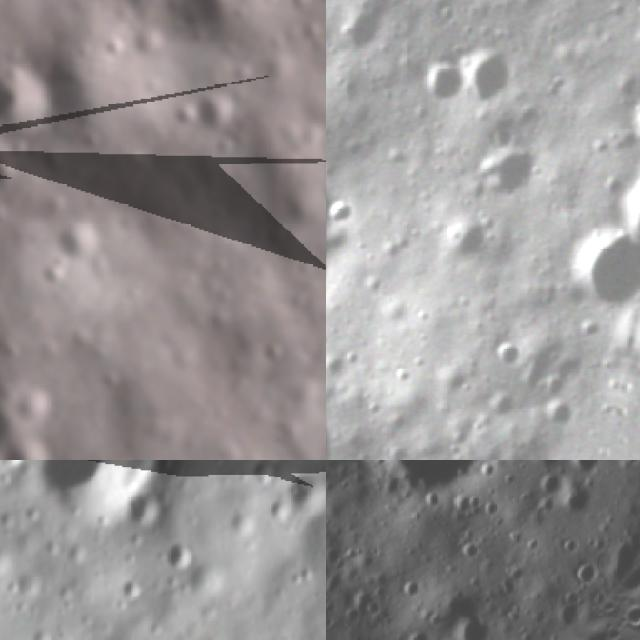crater: (326, 460, 543, 536), (2, 47, 115, 158), (547, 220, 640, 341), (326, 153, 377, 358), (38, 460, 170, 529), (463, 142, 546, 220), (457, 41, 526, 122), (426, 215, 500, 287), (402, 53, 468, 124), (601, 153, 640, 252), (442, 597, 514, 640), (53, 215, 112, 266), (552, 473, 606, 528), (188, 79, 240, 136), (561, 543, 614, 595), (529, 460, 576, 505), (618, 81, 640, 164), (558, 460, 619, 486), (0, 395, 25, 452), (292, 478, 326, 519), (160, 534, 194, 574), (4, 437, 55, 460), (395, 571, 429, 605), (110, 576, 148, 606), (397, 619, 448, 640), (564, 0, 619, 13), (0, 460, 21, 471)
